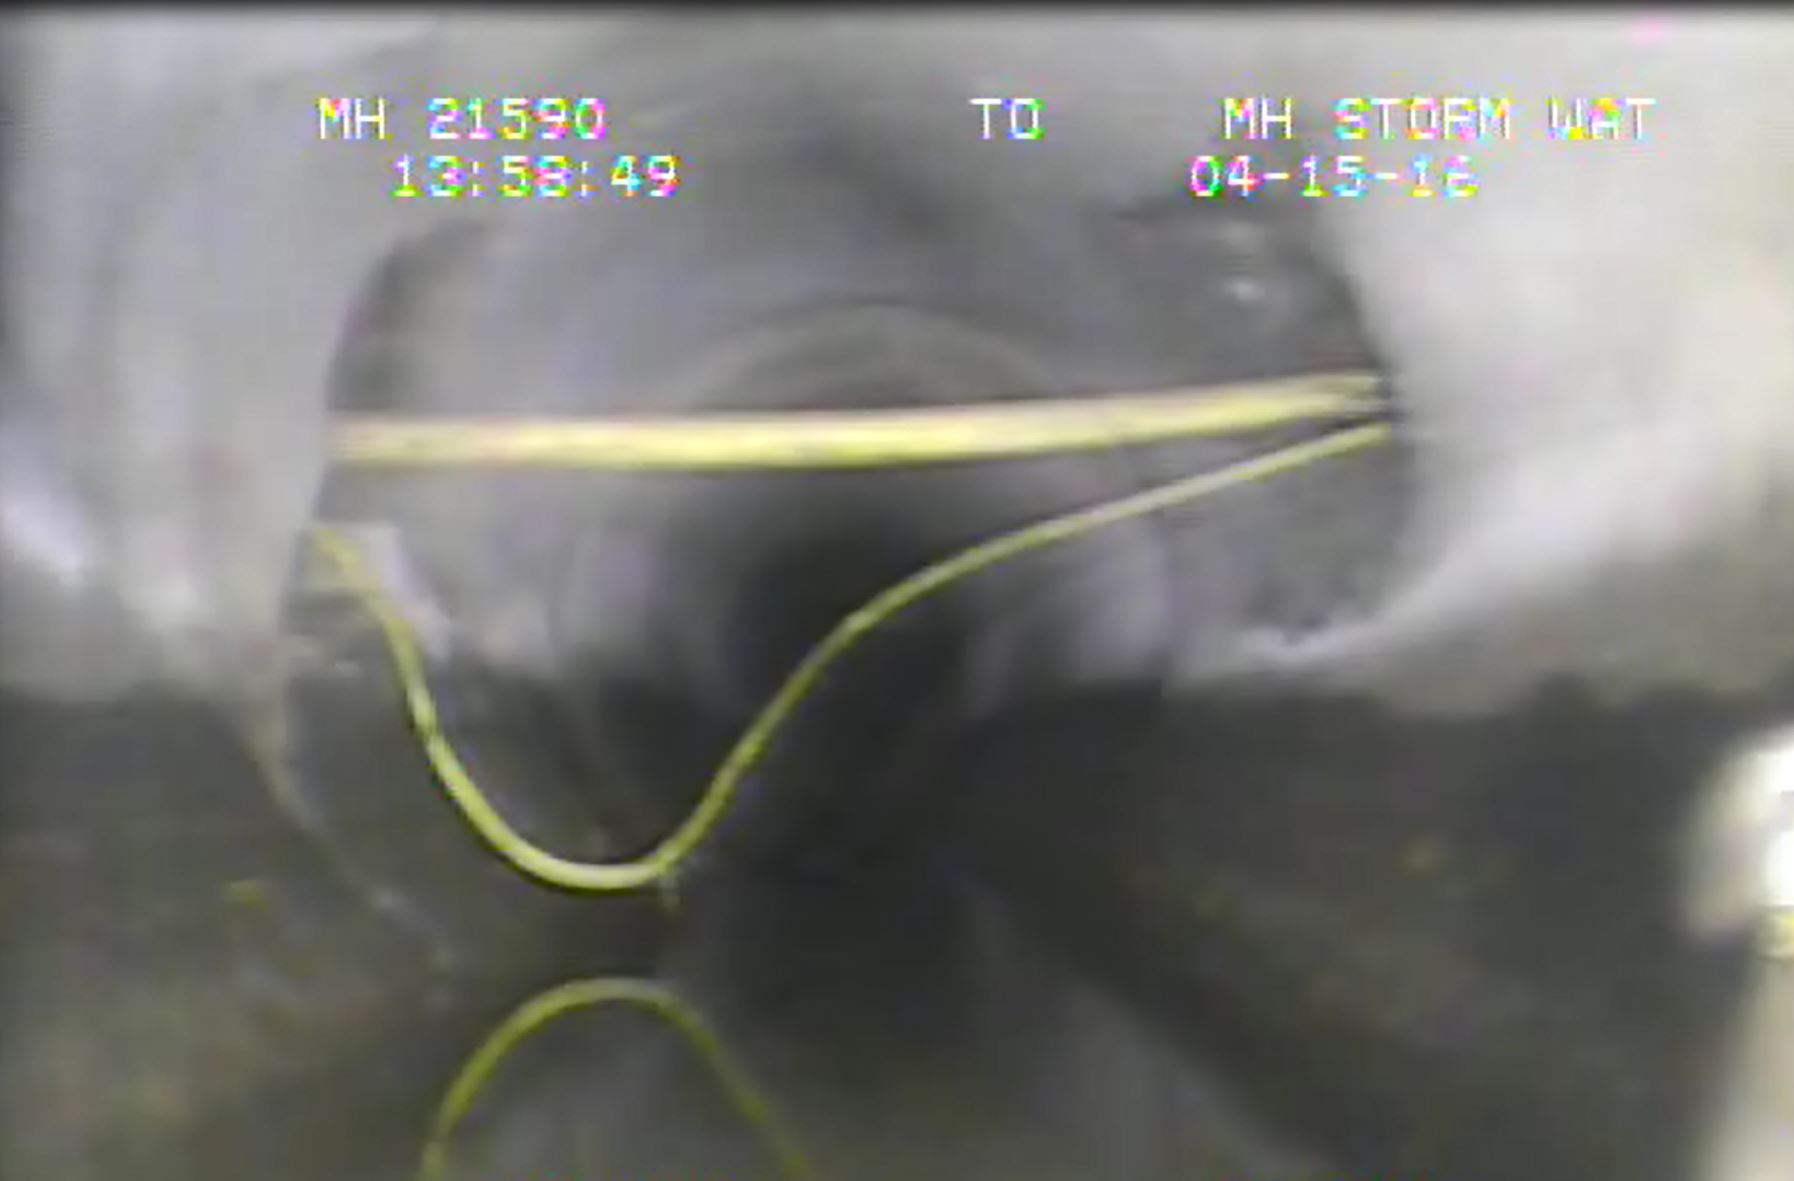cb: (264, 356, 1461, 517)
